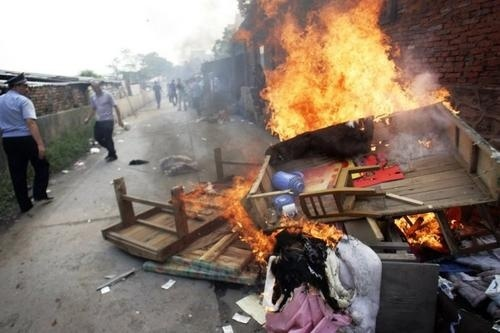fire: (238, 0, 448, 135), (176, 161, 343, 257), (393, 208, 459, 248)
